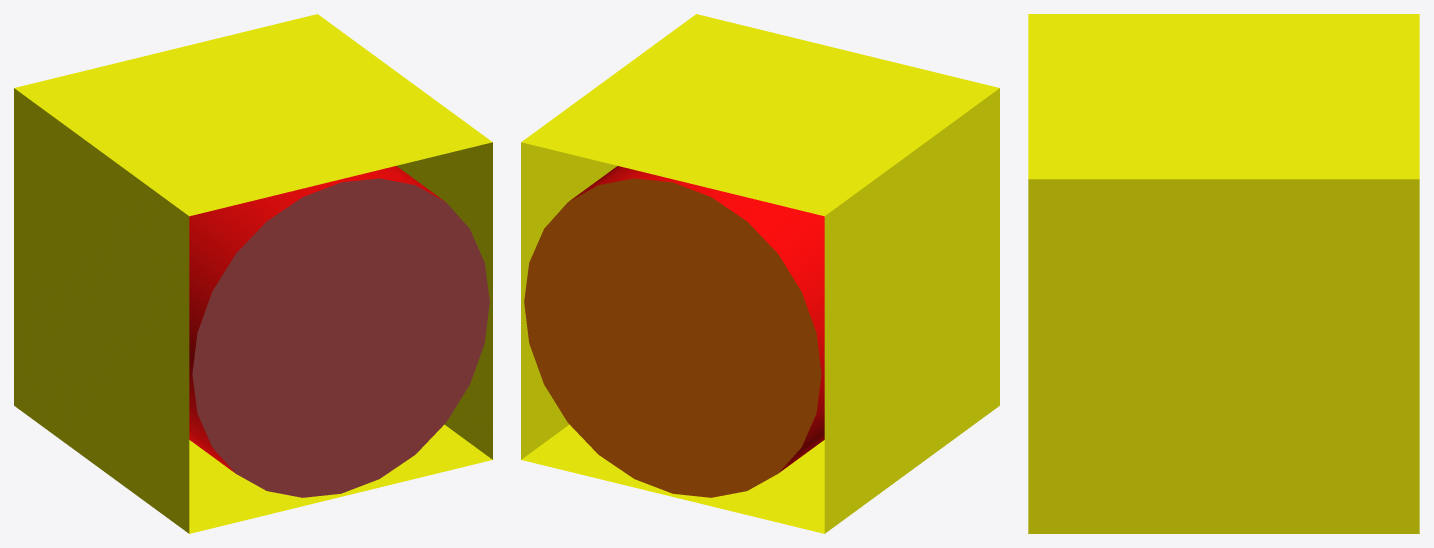
Rendered from Trunk.dae.
3 renders of one model, left to right at view 1: azimuth 30°, elevation 25°; view 2: azimuth 150°, elevation 25°; view 3: azimuth 270°, elevation 25°, orthographic. The views are drawn at different scales.
Visible parts, largest first — view 1: box; view 2: box; view 3: box.
Boxes of the visible parts, x1,y1,x2,y2 form: box: (14,14,492,533); box: (521,14,999,533); box: (1028,14,1419,533).
Bounding box in the file's own units: 1 × 1 × 1.
